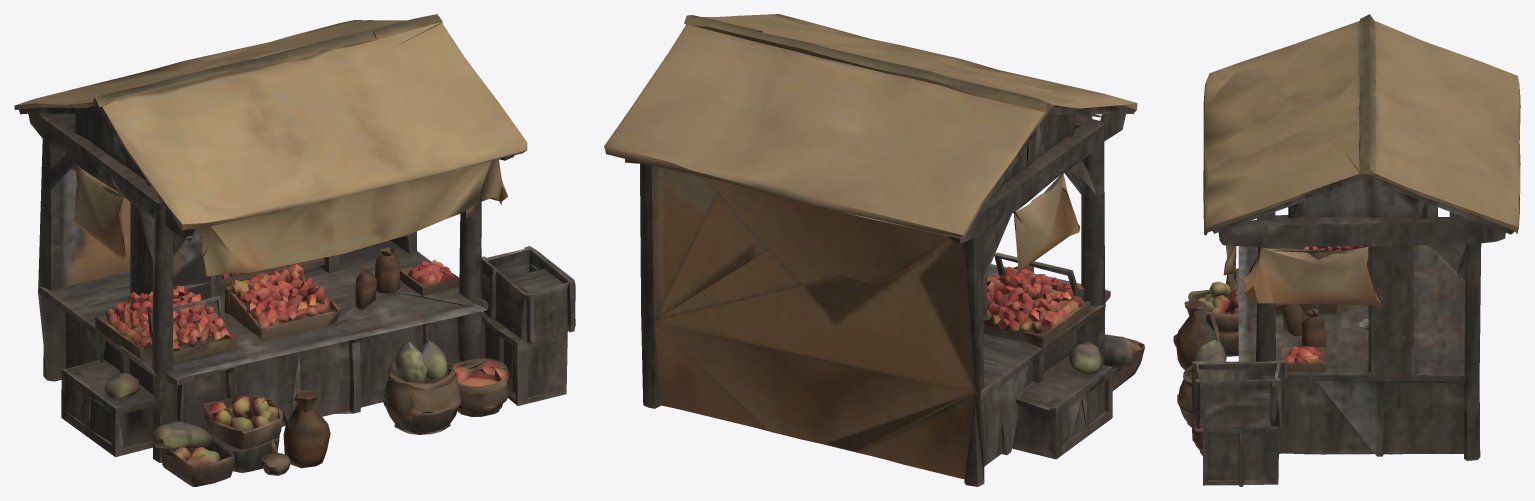
File: market_stall.glb
The picture shows the model from 3 angles, left to right: view 1: azimuth 30°, elevation 25°; view 2: azimuth 150°, elevation 25°; view 3: azimuth 270°, elevation 25°; orthographic projection. The views are drawn at different scales.
Visible parts, largest first — view 1: market_stall; view 2: market_stall; view 3: market_stall.
Part boxes in pixels (x1=…): market_stall: x1=14, y1=14, x2=575, y2=486; market_stall: x1=604, y1=14, x2=1144, y2=486; market_stall: x1=1173, y1=14, x2=1520, y2=486.
Size of the model in its own units: 3.03 by 2.3 by 2.4.
Materials: 1 (1 with a texture image).
